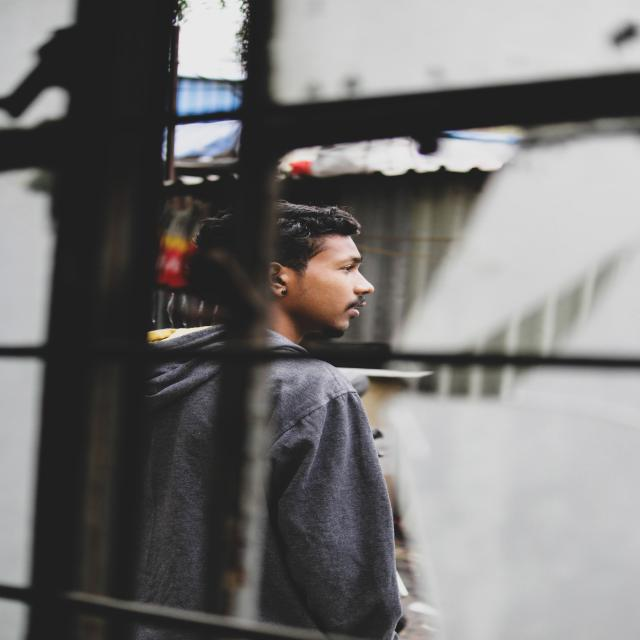adult: (124, 203, 414, 640)
